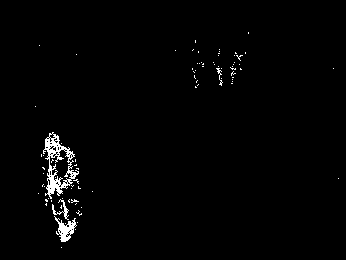person: (41, 131, 81, 244)
